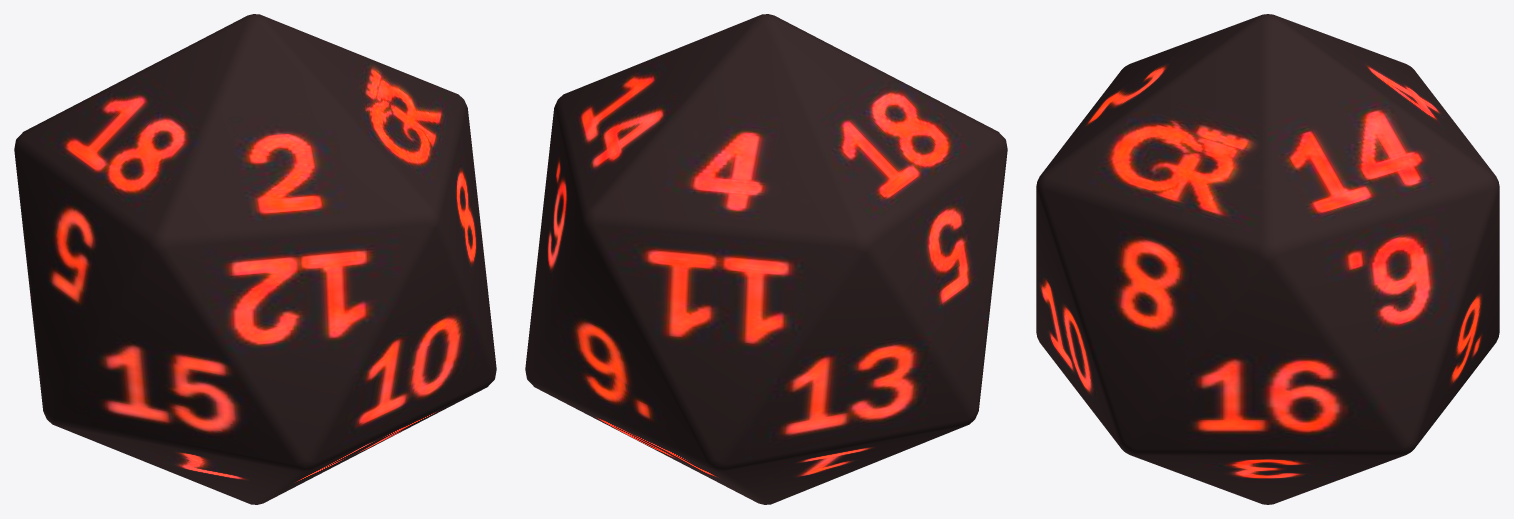
3 views of the same model, side by side, from view 1: azimuth 30°, elevation 25°; view 2: azimuth 150°, elevation 25°; view 3: azimuth 270°, elevation 25° (orthographic).
Visible parts, largest first — view 1: 20Yellow; view 2: 20Yellow; view 3: 20Yellow.
Boxes of the visible parts, bbox=[...] form: 20Yellow: bbox=[14, 14, 496, 504]; 20Yellow: bbox=[525, 14, 1007, 504]; 20Yellow: bbox=[1036, 14, 1499, 504].
Size of the model in its own units: 1.43 by 1.59 by 1.37.
1 material, 1 textured.
